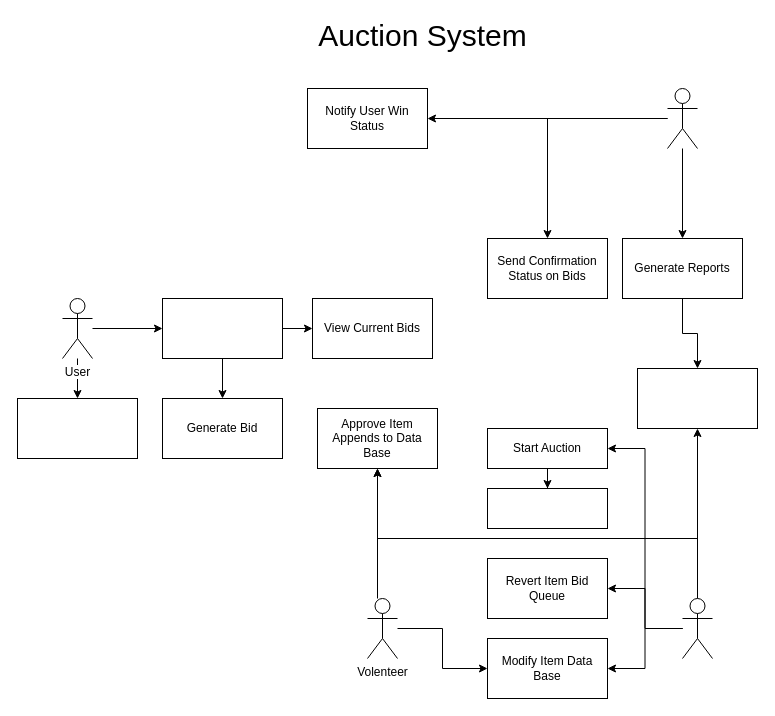
The diagram is 775 pixels wide and 716 high, and some of its shapes have lost their labels. Each missing label, with the box of its shape:
Admin: (682, 598, 712, 658)
Create Account: (162, 298, 282, 358)
Stop Auction: (486, 488, 608, 528)
System: (666, 88, 698, 148)
View Auction Reports: (636, 368, 758, 428)
View Current Items: (16, 398, 138, 458)
